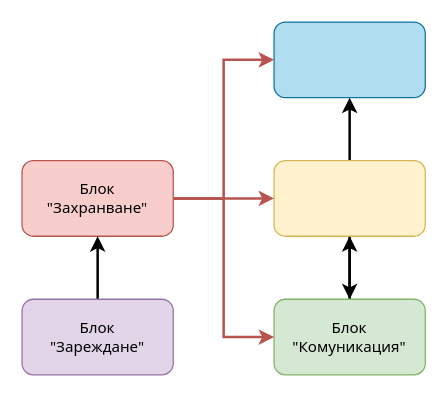
Some shapes in this 447 by 397 pixel diagram are drawn without their labels. The box of each missing label's shape, as (x1, y1, x2, y2) in pixels:
Блок "Визуализация": (273, 21, 425, 98)
Блок "Управление": (273, 159, 425, 236)
